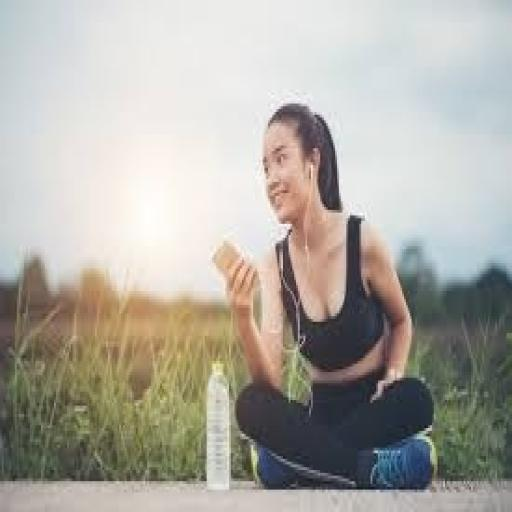listening_to_music: (216, 98, 439, 492)
